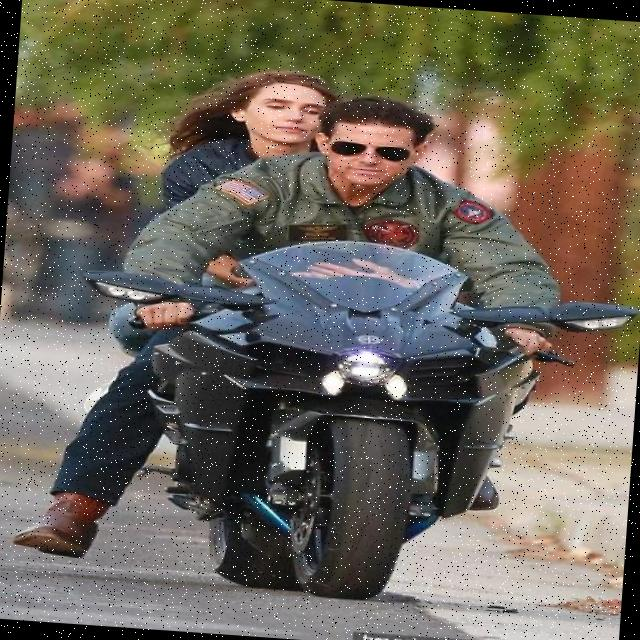No helmet: (314, 92, 435, 206)
